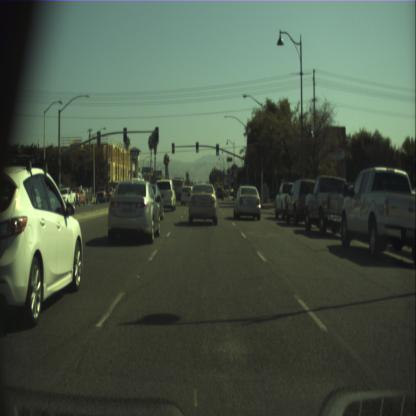Green: (216, 143, 219, 155), (247, 166, 250, 175), (196, 141, 198, 152)
Yellow: (172, 142, 174, 154)
